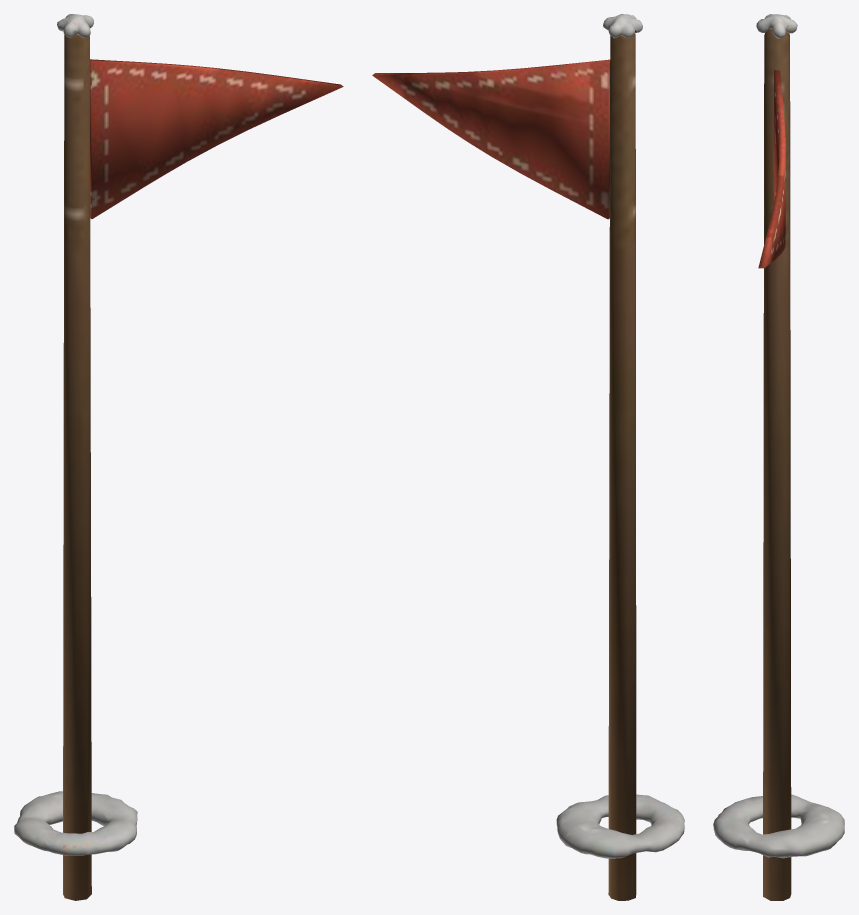
Rendered from flag_red.glb.
3 renders of one model, left to right at view 1: azimuth 30°, elevation 25°; view 2: azimuth 150°, elevation 25°; view 3: azimuth 270°, elevation 25°, orthographic.
Visible parts, largest first — view 1: prop_flag_red_felt, prop_flag_red_wood; view 2: prop_flag_red_felt, prop_flag_red_wood; view 3: prop_flag_red_wood, prop_flag_red_felt.
Part boxes in pixels (left/top/right/bottom): prop_flag_red_felt: left=14, top=14, right=343, bottom=855; prop_flag_red_wood: left=63, top=34, right=91, bottom=900; prop_flag_red_felt: left=372, top=14, right=684, bottom=858; prop_flag_red_wood: left=608, top=33, right=636, bottom=900; prop_flag_red_wood: left=763, top=29, right=791, bottom=900; prop_flag_red_felt: left=713, top=14, right=844, bottom=858.
Size of the model in its own units: 0.7044 by 1.89 by 0.2559.
Materials: 2 (2 with a texture image).
